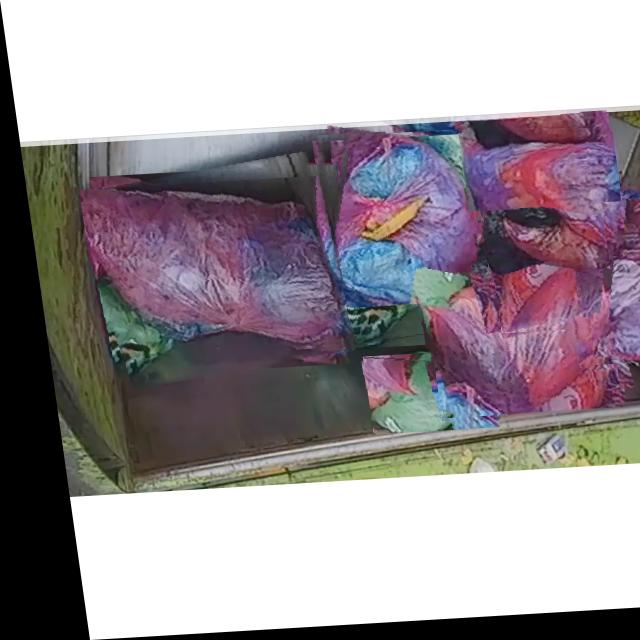general_trashbag: (283, 255, 411, 350), (359, 362, 487, 436)
other_trashbag: (74, 189, 343, 349), (313, 137, 477, 307), (418, 266, 600, 419), (455, 132, 614, 215), (490, 213, 578, 338), (477, 186, 600, 275), (577, 197, 640, 368)
